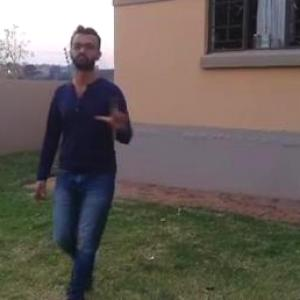land_hand: (97, 92, 134, 136)
